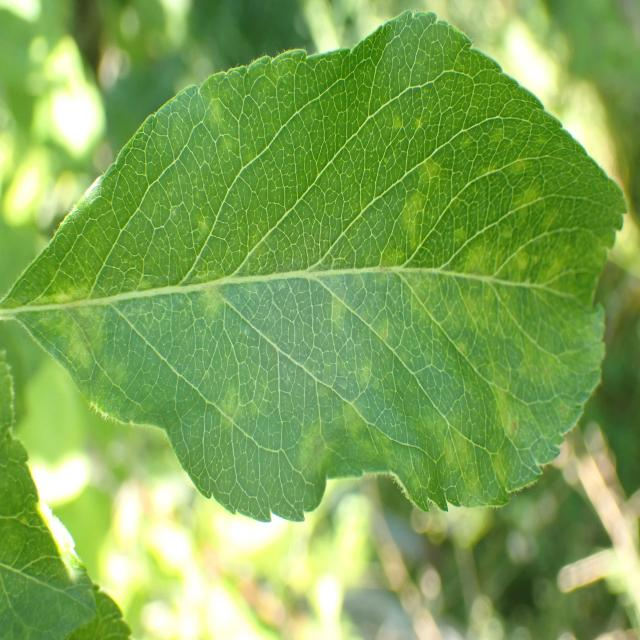scab: (61, 137, 574, 460)
